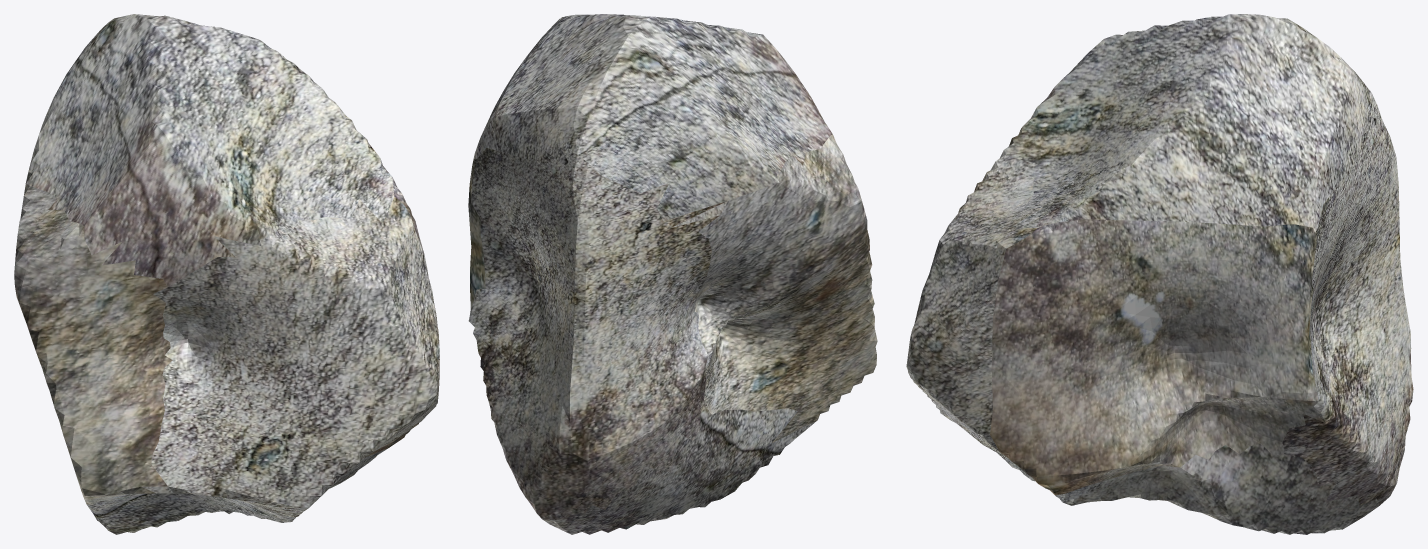
File: Asteroid1New.fbx
3 views of the same model, side by side, from view 1: azimuth 30°, elevation 25°; view 2: azimuth 150°, elevation 25°; view 3: azimuth 270°, elevation 25° (orthographic). The views are drawn at different scales.
Visible parts, largest first — view 1: Asteroid1; view 2: Asteroid1; view 3: Asteroid1.
Boxes of the visible parts, left/top/right/bottom form: Asteroid1: left=14, top=14, right=439, bottom=534; Asteroid1: left=468, top=14, right=877, bottom=534; Asteroid1: left=906, top=14, right=1413, bottom=534.
Bounding box in the file's own units: 121 × 166 × 151.
